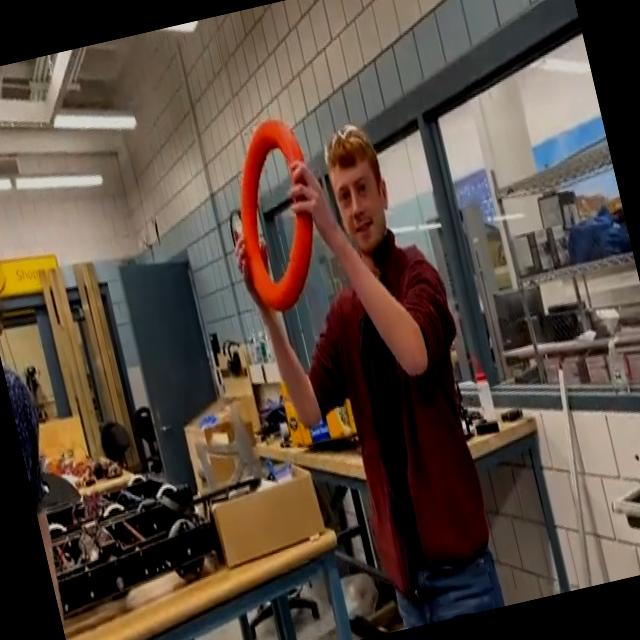note: (213, 107, 339, 320)
